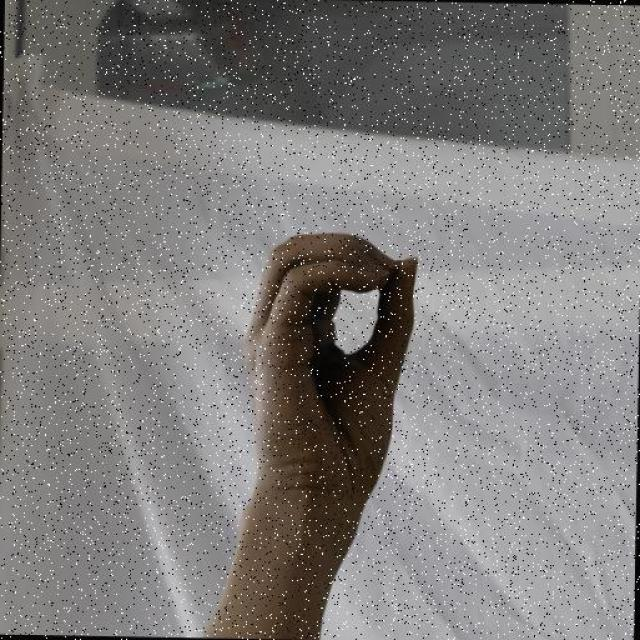O: (234, 228, 423, 511)
